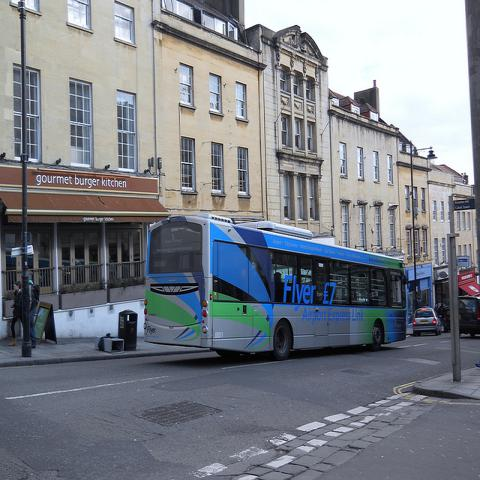bus: (145, 213, 406, 361)
car: (442, 297, 479, 338), (412, 307, 442, 336)
